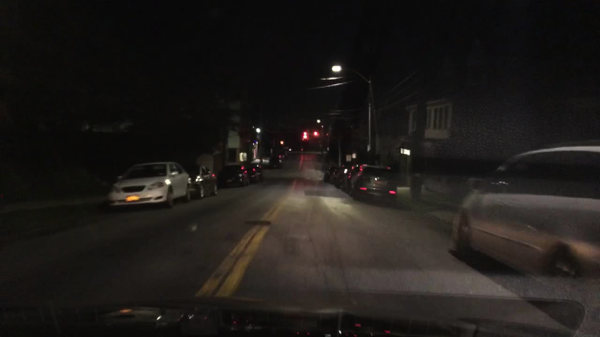car: (450, 147, 599, 284), (108, 161, 191, 215), (348, 164, 398, 203), (185, 164, 218, 200), (217, 161, 251, 190), (331, 166, 354, 195), (248, 162, 264, 185), (323, 166, 336, 183), (266, 158, 283, 170)
traffic light: (301, 132, 309, 140), (312, 131, 320, 139)
